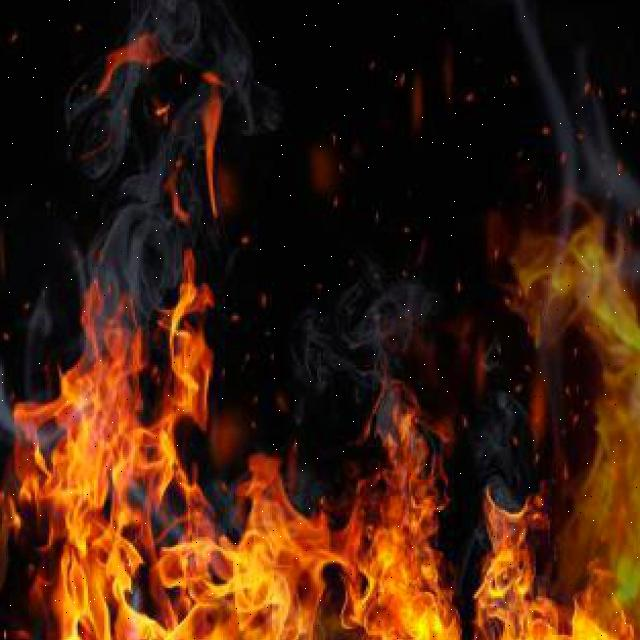fire: (0, 199, 640, 640)
smoke: (494, 0, 640, 264), (76, 70, 197, 318), (292, 262, 429, 443), (470, 390, 536, 510)
